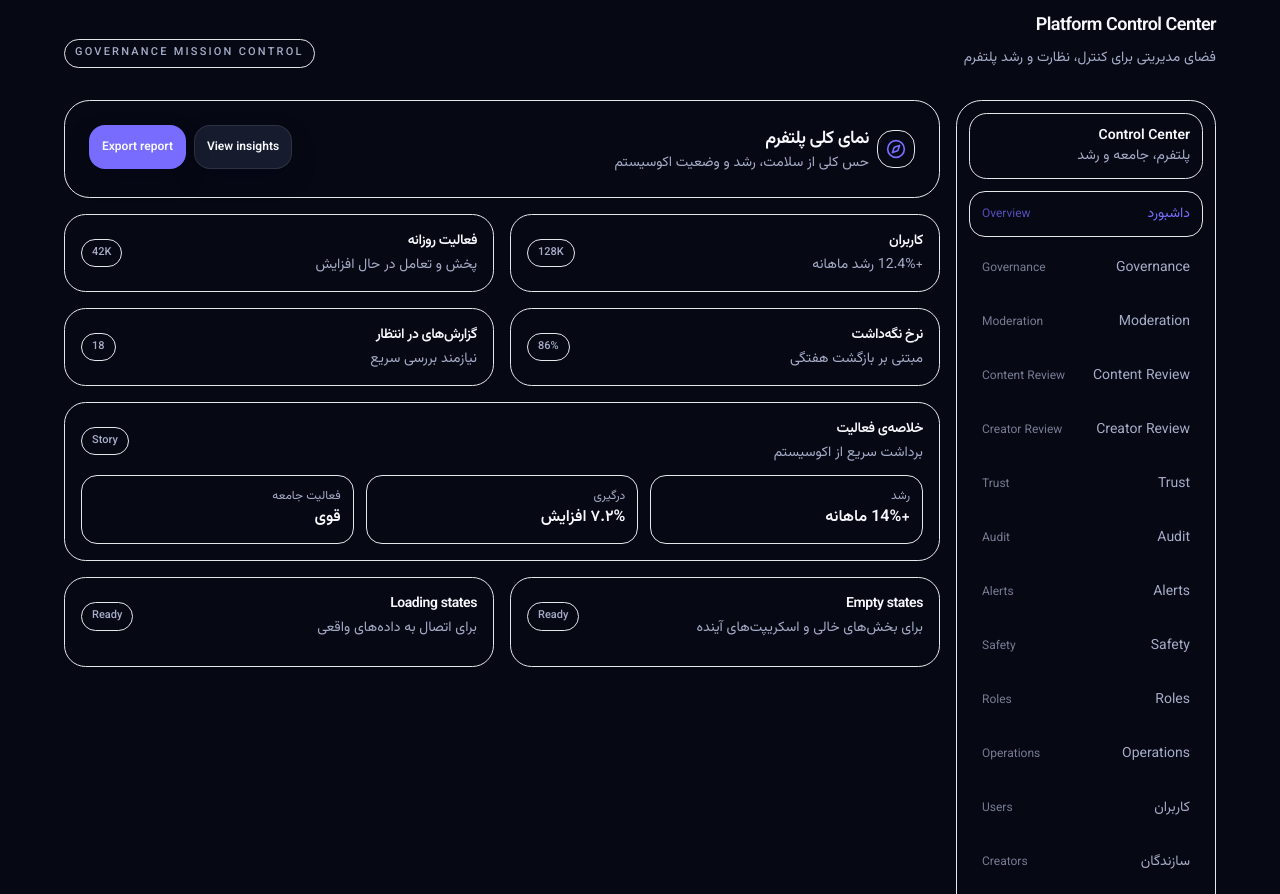
Test case: AdminDashboard › renders the governance dashboard overview with trust and operations summaries
Click the button "Governance Governance" at (1086, 268), box [969,245,1203,291]
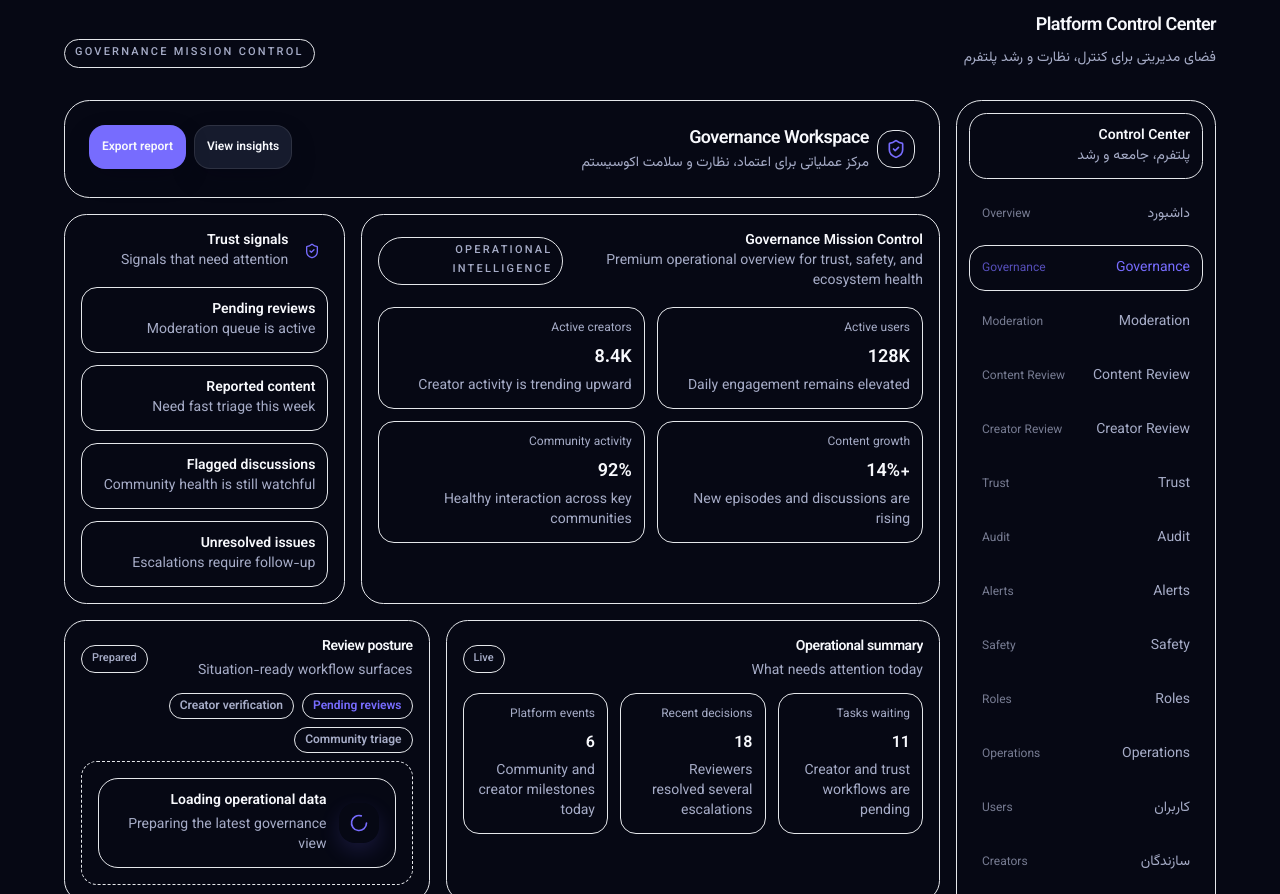
Expected: the text "Governance Mission Control" is shown, [64,39,315,68]
Expected: the text "Pending reviews" is shown, [212,299,315,321]
Expected: the text "Operational summary" is shown, [796,636,923,658]
